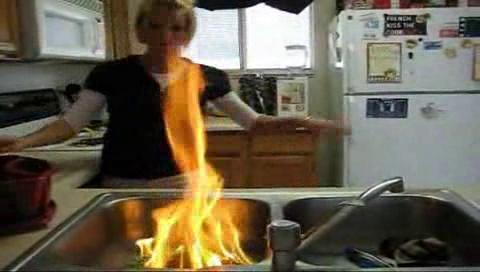fire: (147, 41, 238, 264)
